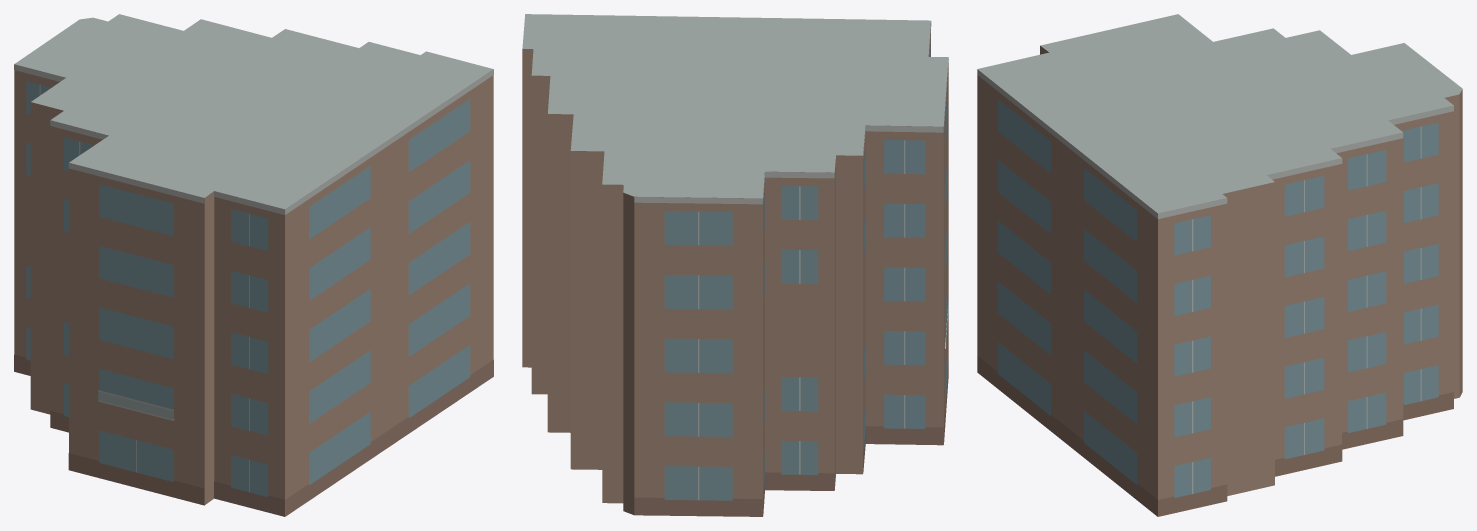
Rendered from survey-upis-32988544.glb.
3 renders of one model, left to right at view 1: azimuth 30°, elevation 25°; view 2: azimuth 150°, elevation 25°; view 3: azimuth 270°, elevation 25°, orthographic. The views are drawn at different scales.
Parts seen in each view (by area): view 1: survey-upis-32988544.tmp; view 2: survey-upis-32988544.tmp; view 3: survey-upis-32988544.tmp.
Part boxes in pixels (box(x1,y1,x2,y2)): survey-upis-32988544.tmp: box(14, 14, 493, 516); survey-upis-32988544.tmp: box(522, 14, 948, 516); survey-upis-32988544.tmp: box(977, 14, 1462, 516).
Bounding box in the file's own units: 18.35 × 13 × 18.86.
